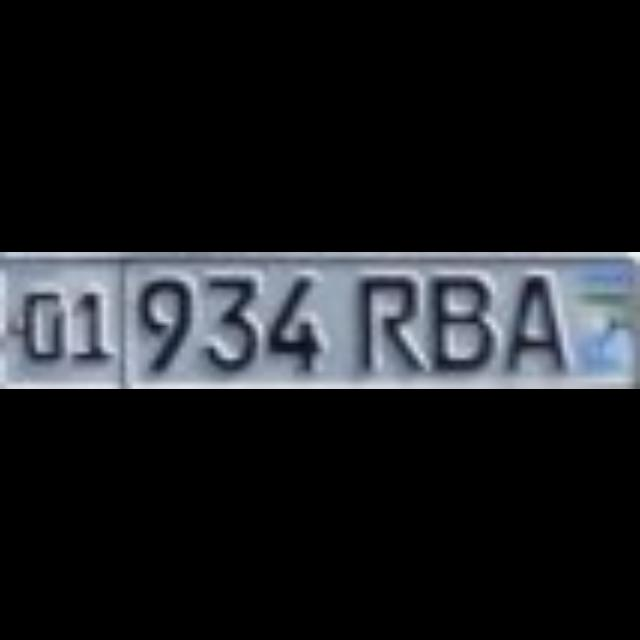0: (18, 281, 60, 359)
1: (66, 281, 108, 353)
3: (197, 269, 257, 365)
4: (263, 263, 317, 371)
9: (132, 269, 186, 371)
A: (502, 269, 562, 365)
B: (425, 269, 491, 365)
R: (353, 269, 419, 365)
